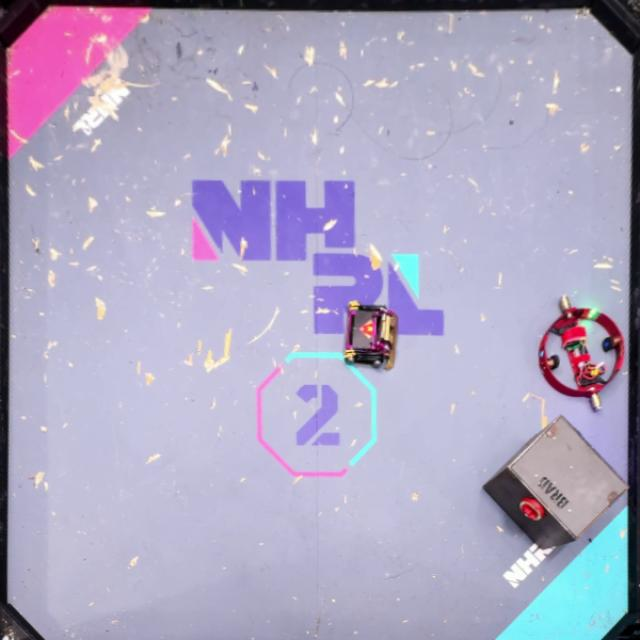housebot: (481, 414, 629, 550)
robot: (538, 296, 626, 411), (344, 302, 398, 371)
